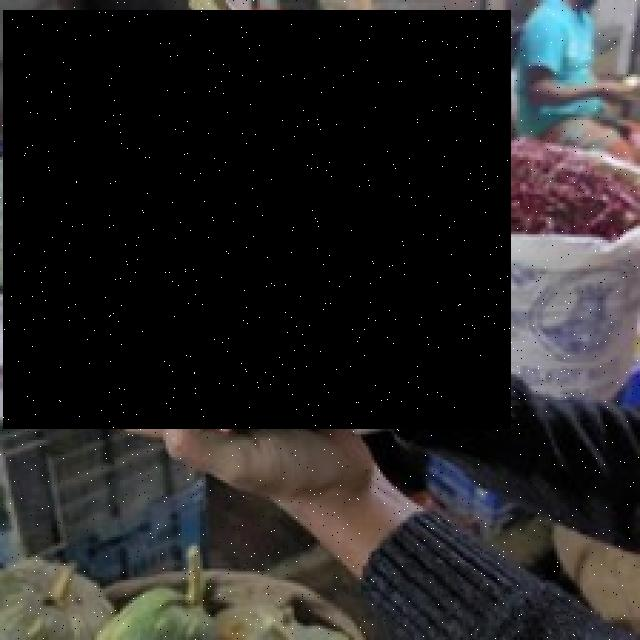Pumpkin: (4, 10, 512, 429)
